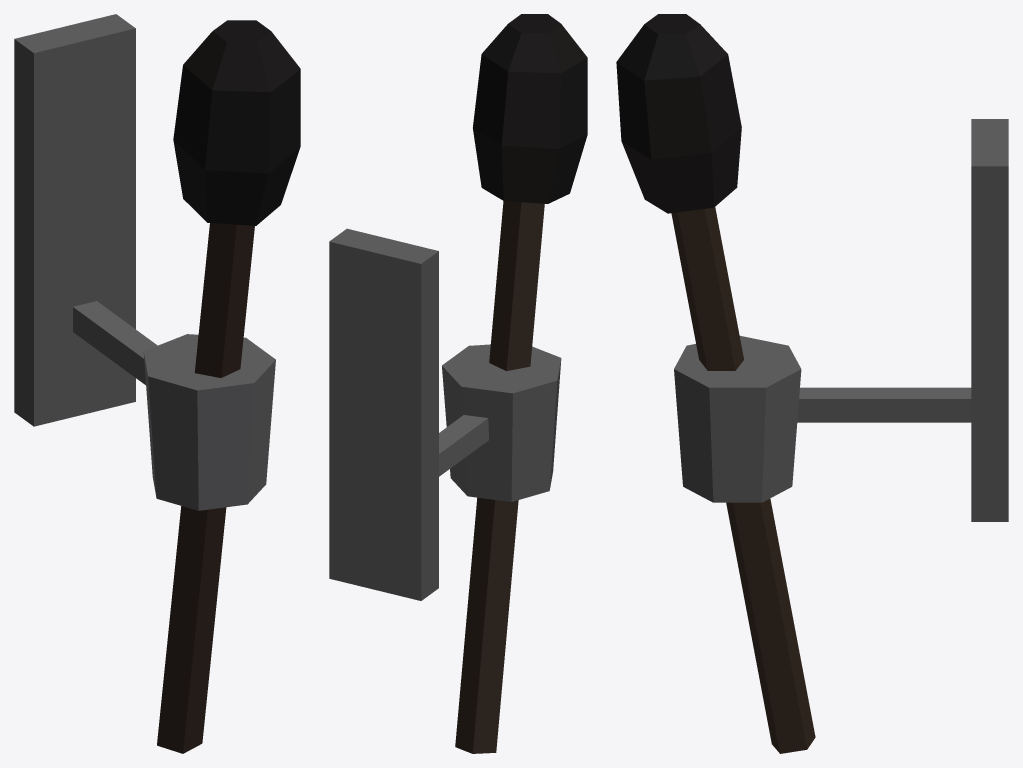
Rendered from walk_prop_torch.glb.
3 views of the same model, side by side, from view 1: azimuth 30°, elevation 25°; view 2: azimuth 150°, elevation 25°; view 3: azimuth 270°, elevation 25° (orthographic). The views are drawn at different scales.
Parts seen in each view (by area): view 1: walk_prop_torch; view 2: walk_prop_torch; view 3: walk_prop_torch.
Boxes of the visible parts, box(x1,y1,x2,y2) form: walk_prop_torch: box(14, 14, 300, 753); walk_prop_torch: box(329, 14, 587, 753); walk_prop_torch: box(616, 14, 1008, 753).
Bounding box in the file's own units: 0.1331 × 0.854 × 0.4198.
2 materials, 2 textured.
